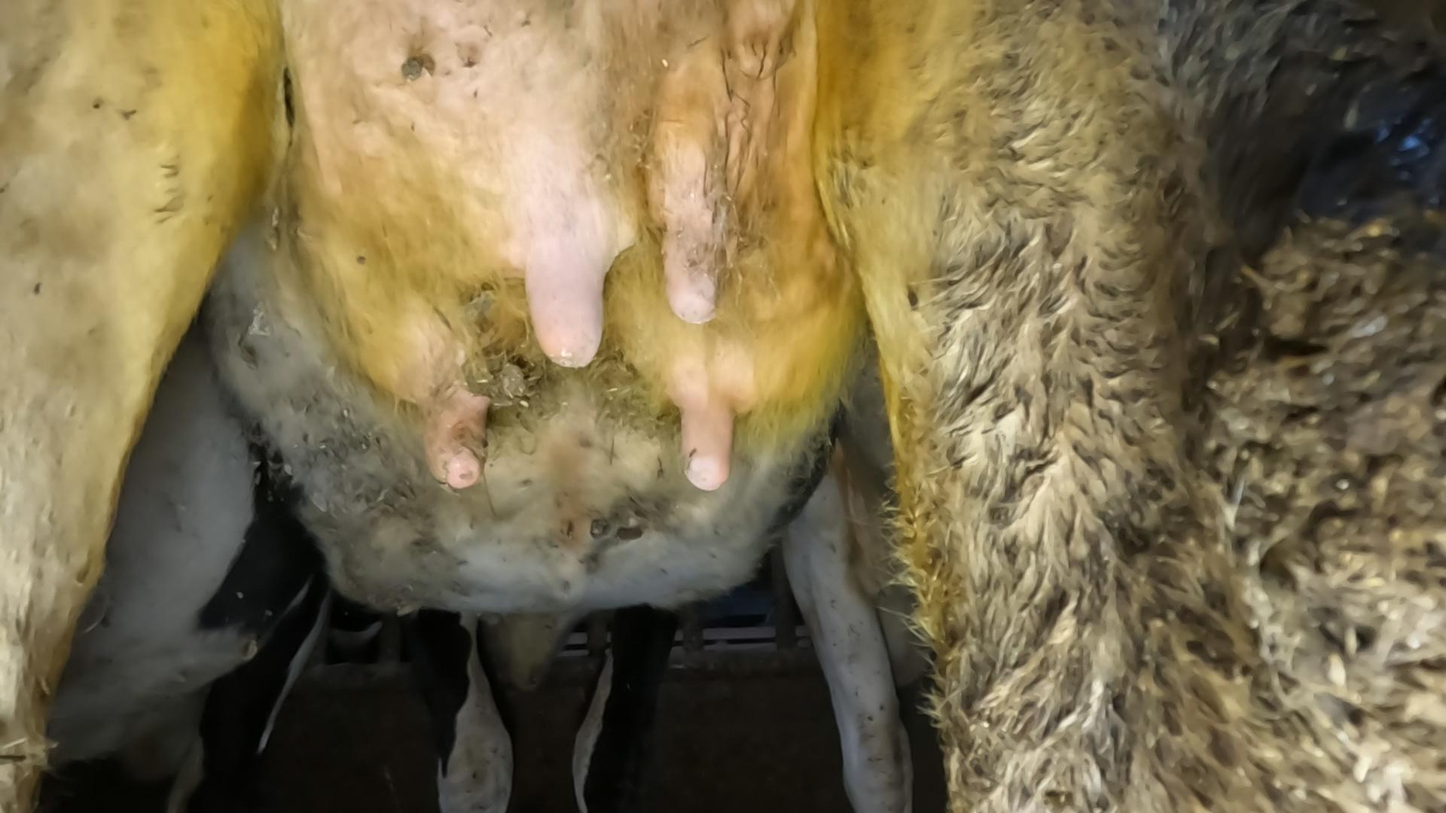Zitze: (517, 217, 615, 387), (642, 207, 746, 340), (418, 384, 501, 511), (658, 395, 752, 507)
